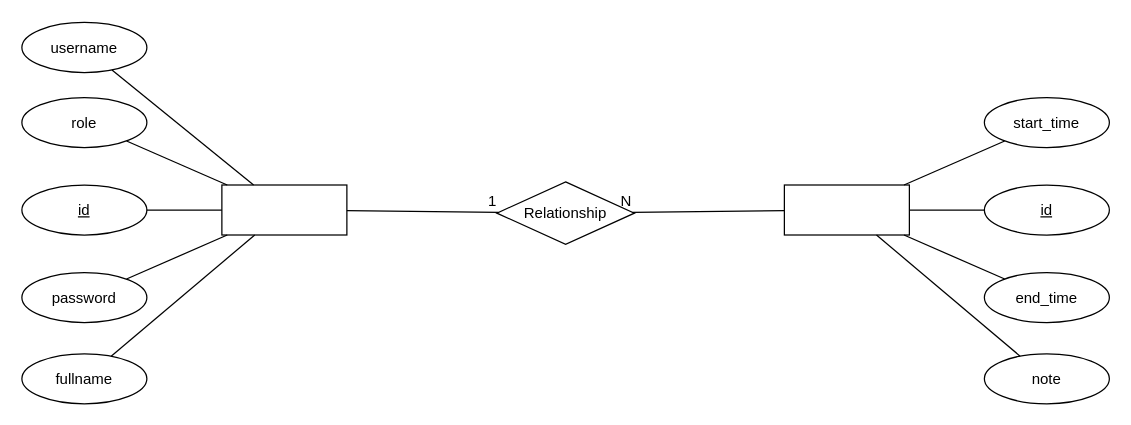
Image size: 1131x425. Some labels were removed from this diagram. Each missing label, with the centre of its shape:
"Shift" belongs at point 846,209.
"User" belongs at point 284,209.
